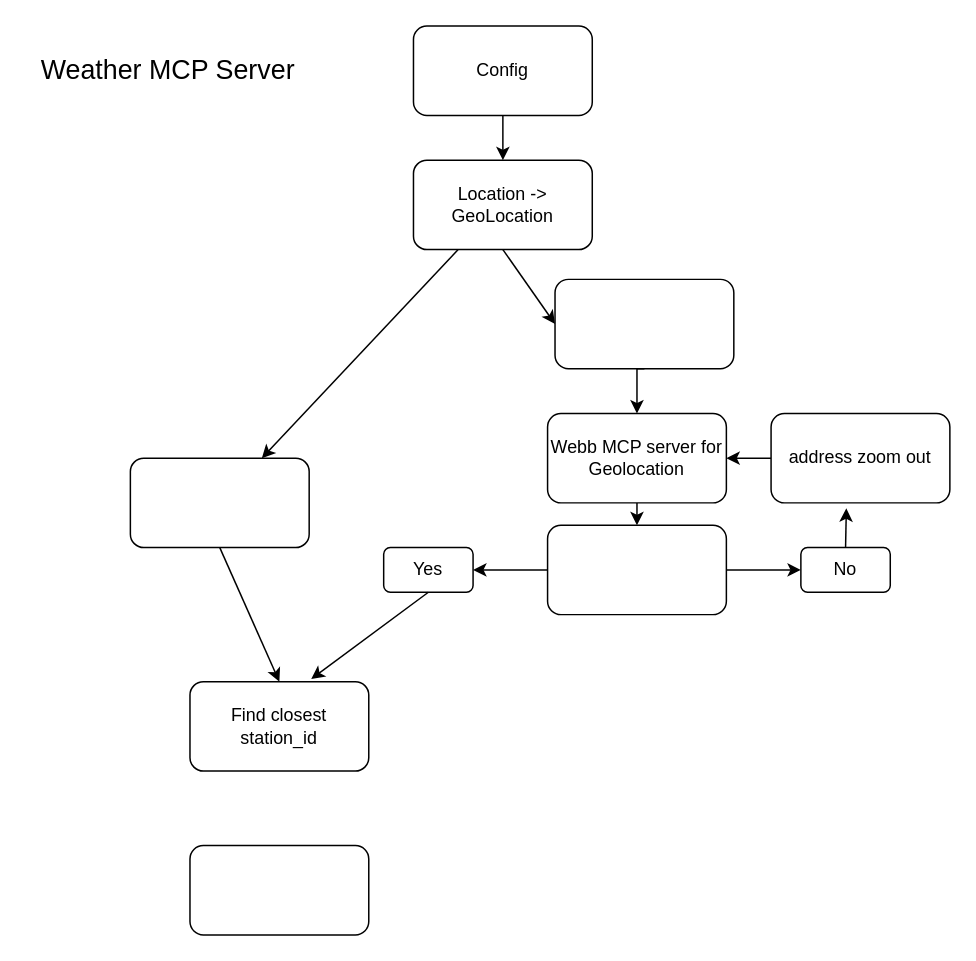
This 976x961 diagram has some shape labels left out. The shapes that lost their labels are listed below. From the top down, each one's centre as x and y in pixels, then its label:
At (644,323): "Bad GeoLocation".
At (219,502): "GeoLocation returned for specified location".
At (636,569): "Worked".
At (278,889): "Find weather for station_id".
